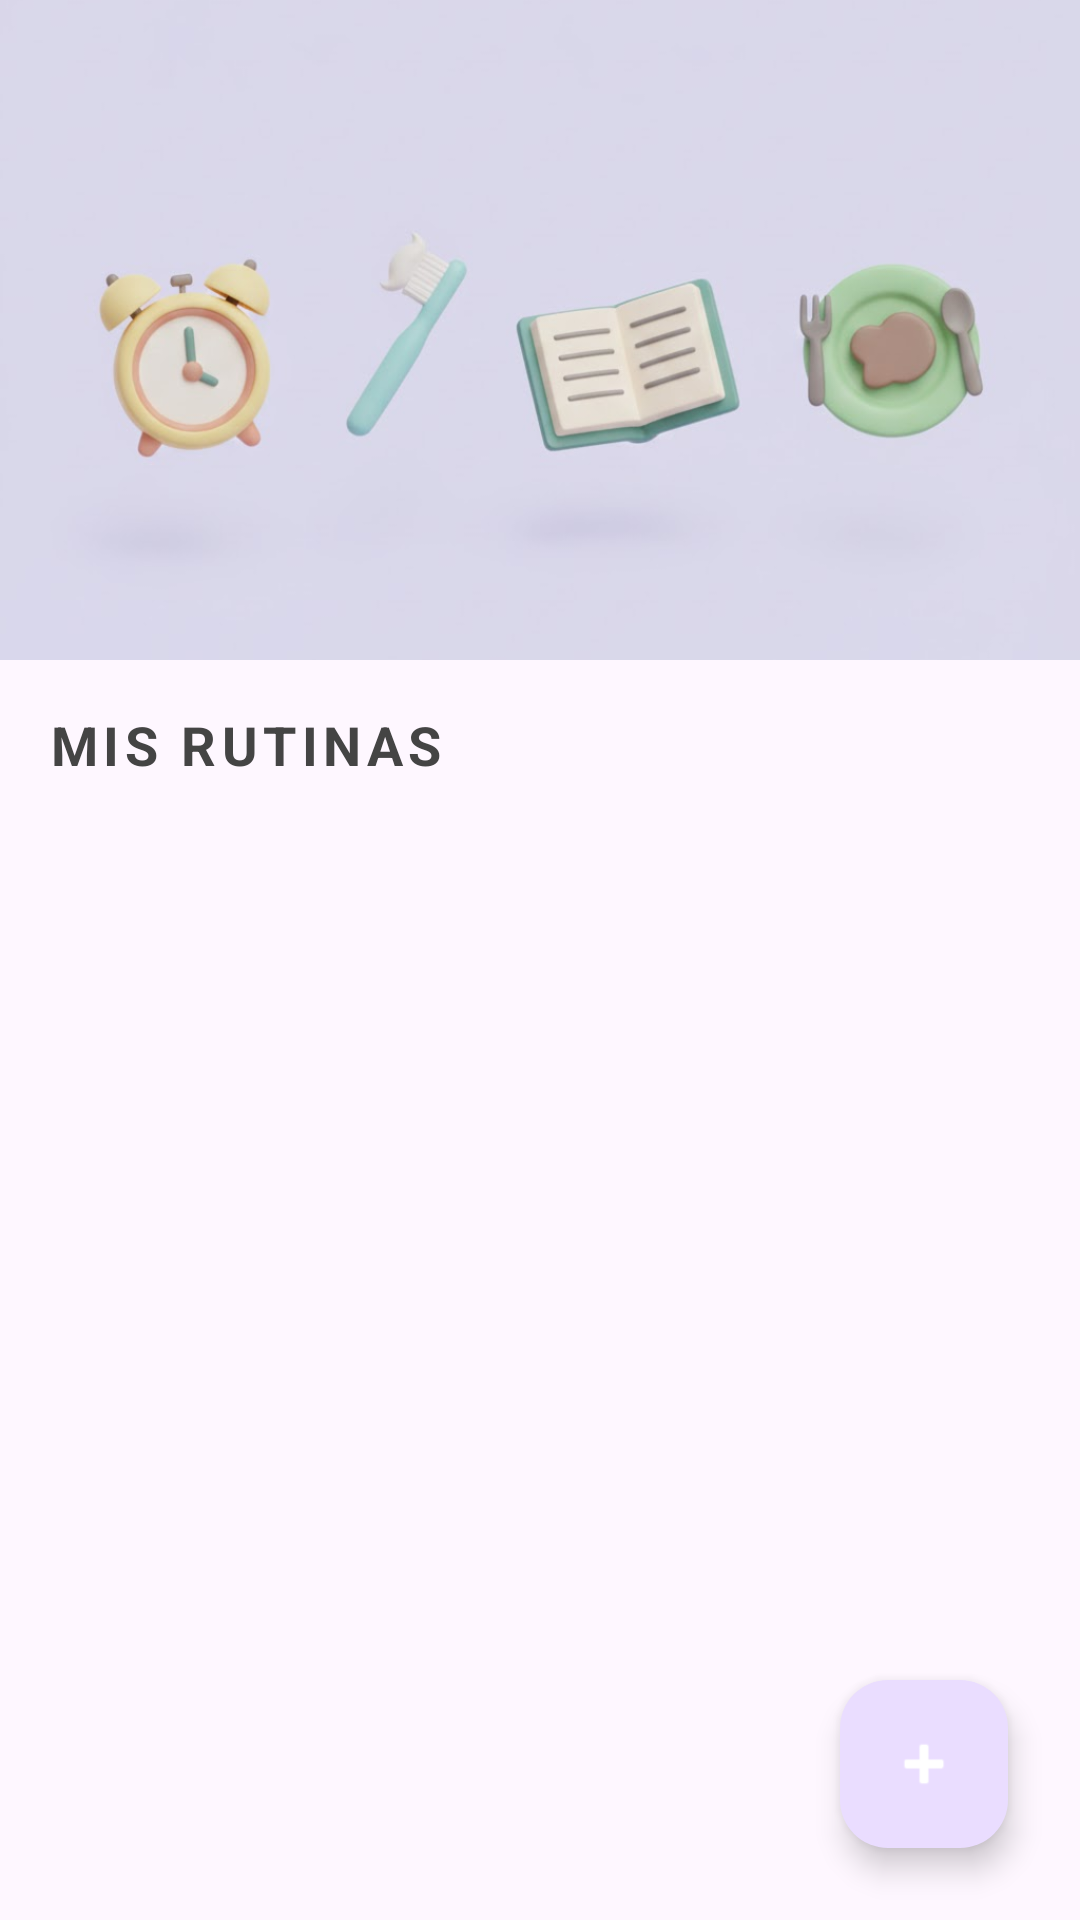

Screen size 1080 × 1920. Icon name, then its box in pixels as [x1, y1, x2, y2]:
Nueva Rutina: [840, 1680, 1008, 1848]
